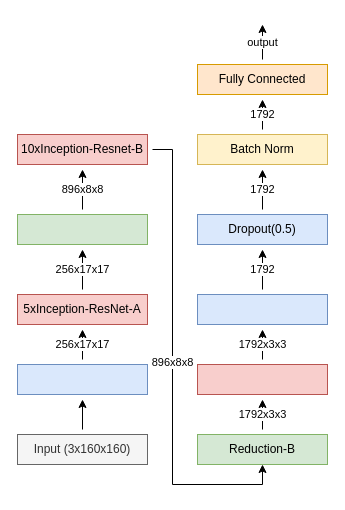
Image size: 345x510. Some labels were removed from this diagram. Each missing label, with the box of its shape:
5xInception-Resnet-C: (196, 364, 328, 394)
Average Pooling: (196, 294, 328, 324)
Reduction-A: (16, 214, 148, 244)
Stem: (16, 364, 148, 394)
